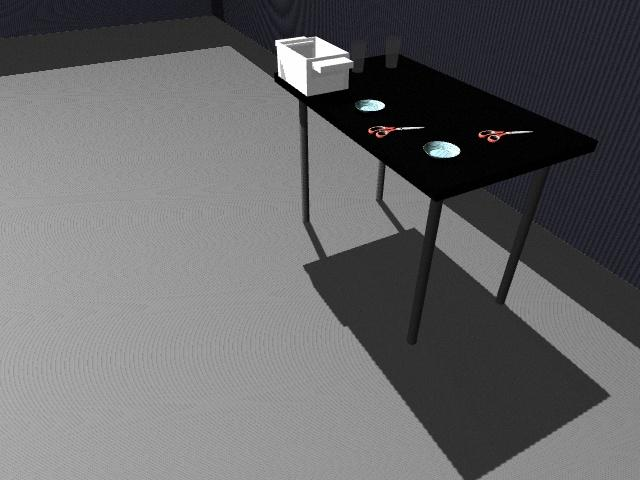cup: (350, 39, 366, 73), (385, 36, 401, 69)
plate: (422, 140, 462, 159), (354, 98, 386, 112)
scissors: (368, 125, 423, 138), (479, 129, 529, 143)
